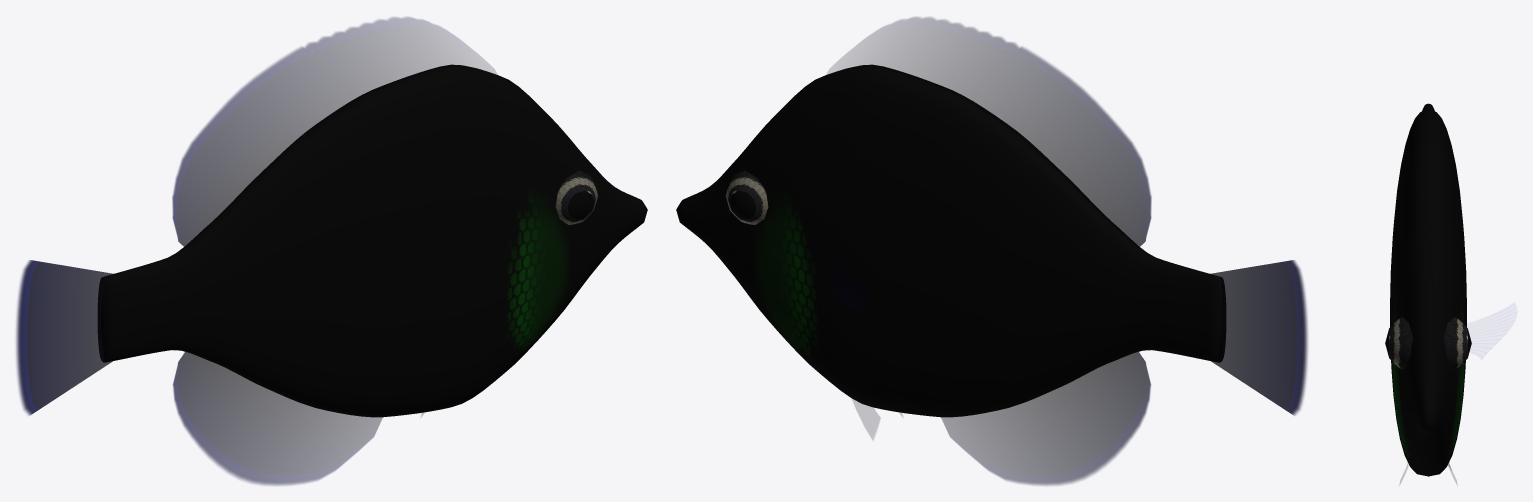
File: wrought_iron_butterfly.glb
3 views of the same model, side by side, from view 1: azimuth 30°, elevation 25°; view 2: azimuth 150°, elevation 25°; view 3: azimuth 270°, elevation 25° (orthographic). The views are drawn at different scales.
Visible parts, largest first — view 1: Body, FinDorsal, FinAnal, FinCaudal, EyeR; view 2: Body, FinDorsal, FinAnal, FinCaudal, EyeL; view 3: Body, EyeL, EyeR.
Boxes of the visible parts, x1,y1,x2,y2 form: Body: (98, 64, 647, 417); FinDorsal: (172, 17, 497, 247); FinAnal: (173, 352, 382, 485); FinCaudal: (16, 260, 115, 415); EyeR: (555, 170, 598, 225); Body: (676, 64, 1225, 417); FinDorsal: (826, 17, 1151, 247); FinAnal: (941, 352, 1150, 485); FinCaudal: (1208, 260, 1307, 415); EyeL: (725, 170, 768, 225); Body: (1390, 103, 1466, 476); EyeL: (1444, 316, 1471, 369); EyeR: (1385, 316, 1412, 369).
Bounding box in the file's own units: 1 × 0.6801 × 0.2554.
4 materials, 3 textured.
